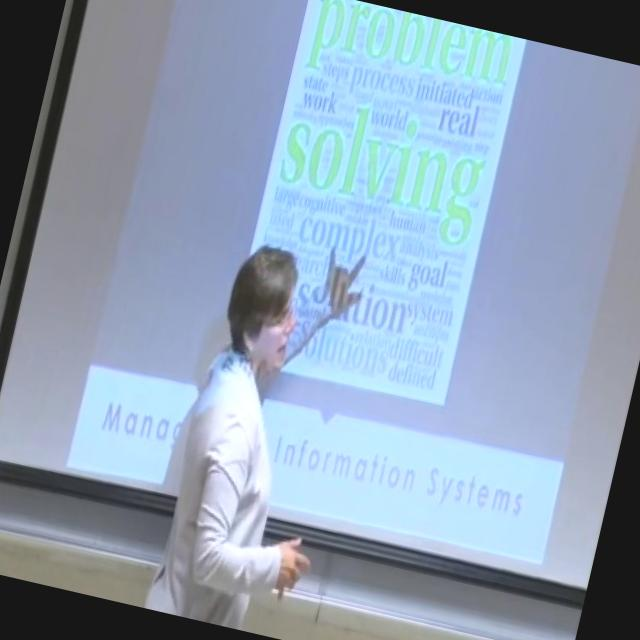Instructor: (136, 220, 350, 634)
Slide: (67, 0, 640, 568)
